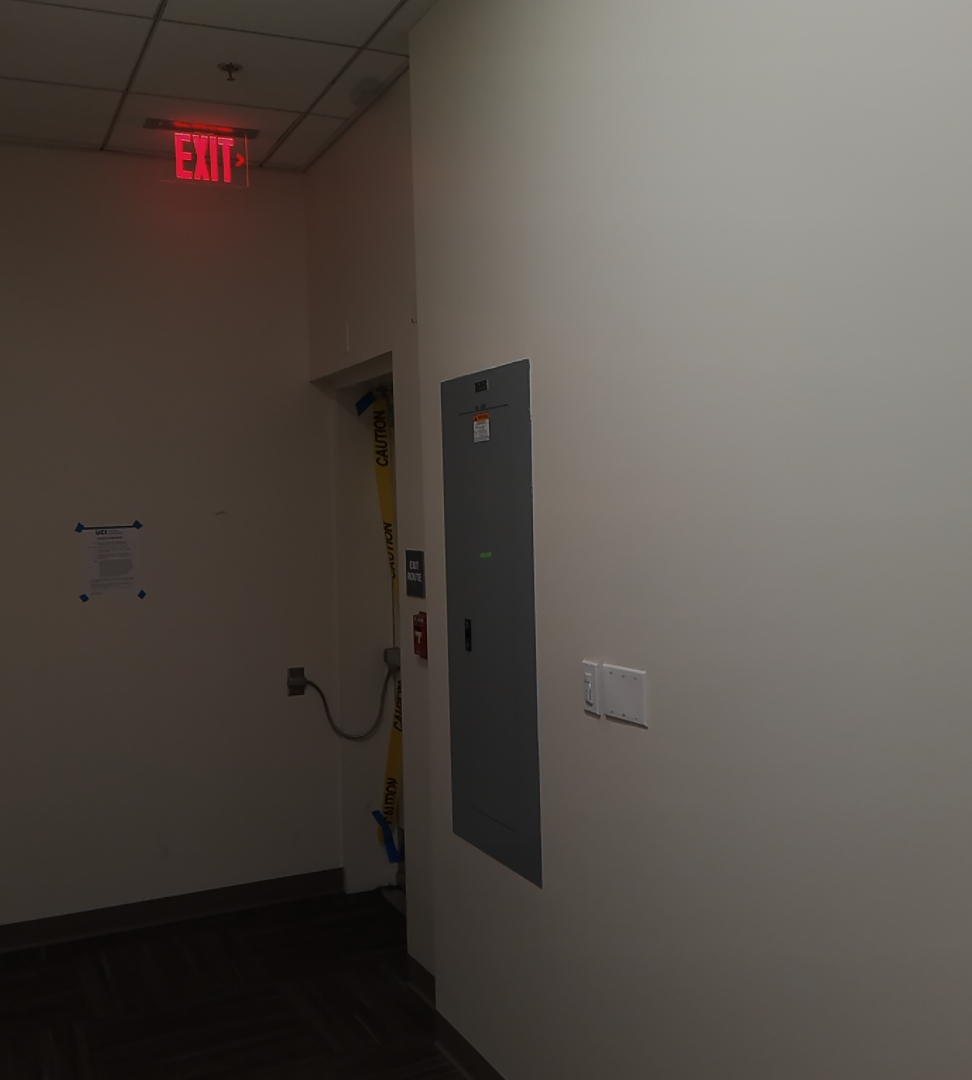emergency_exit: (144, 115, 261, 192), (168, 125, 251, 189)
